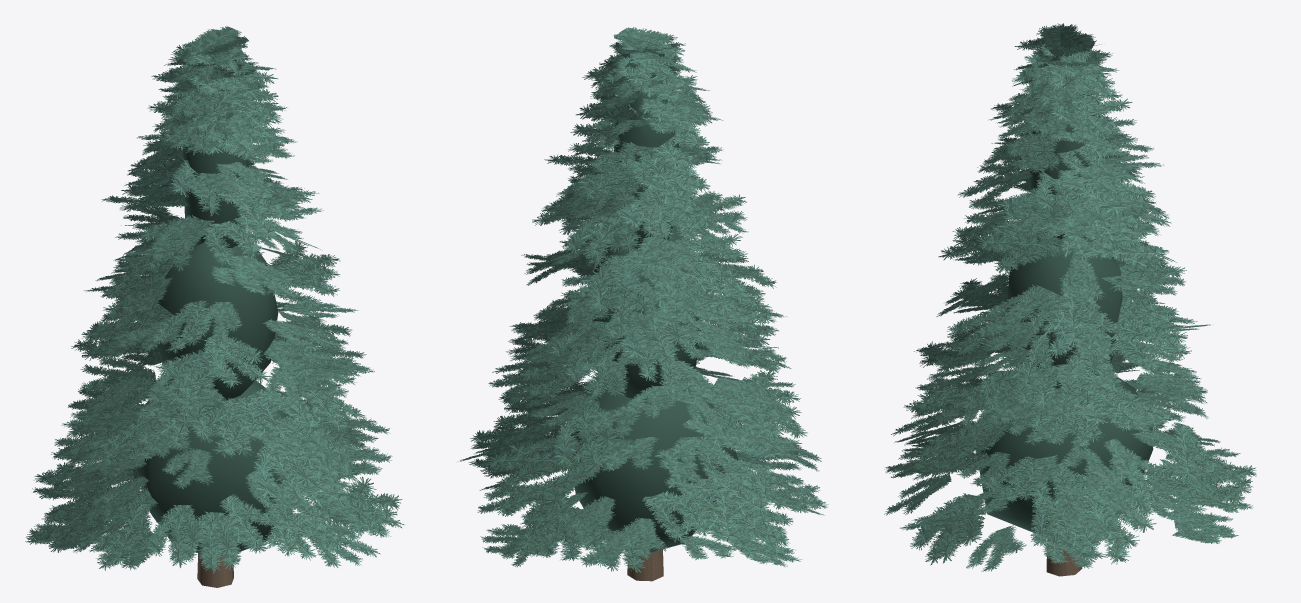
Rendered from CEDRUS_1.glb.
3 renders of one model, left to right at view 1: azimuth 30°, elevation 25°; view 2: azimuth 150°, elevation 25°; view 3: azimuth 270°, elevation 25°, orthographic.
Parts seen in each view (by area): view 1: Arv_CEDRUS_lod1; view 2: Arv_CEDRUS_lod1; view 3: Arv_CEDRUS_lod1.
Part boxes in pixels (bbox=[...]): Arv_CEDRUS_lod1: bbox=[25, 26, 404, 587]; Arv_CEDRUS_lod1: bbox=[458, 27, 828, 581]; Arv_CEDRUS_lod1: bbox=[884, 23, 1256, 576].
Bounding box in the file's own units: 7.19 × 10.23 × 7.14.
3 materials, 2 textured.
